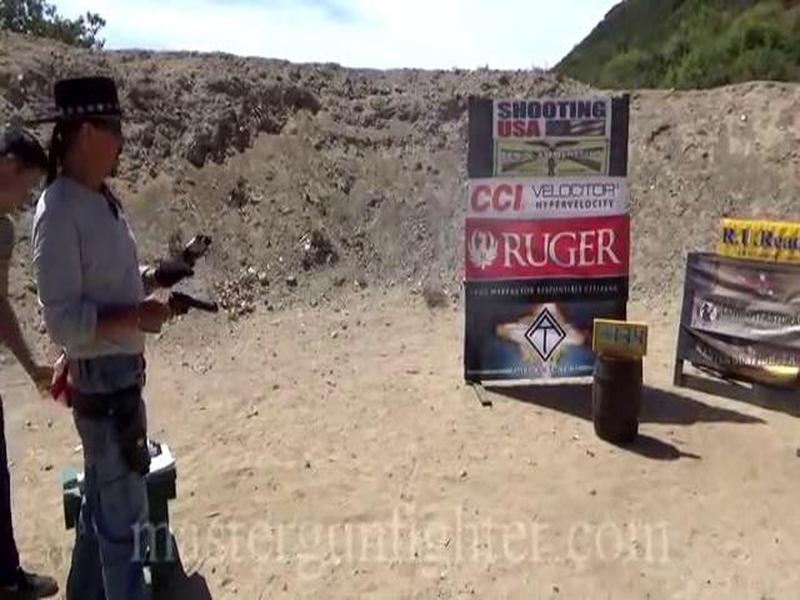Revolver: (145, 286, 227, 343)
